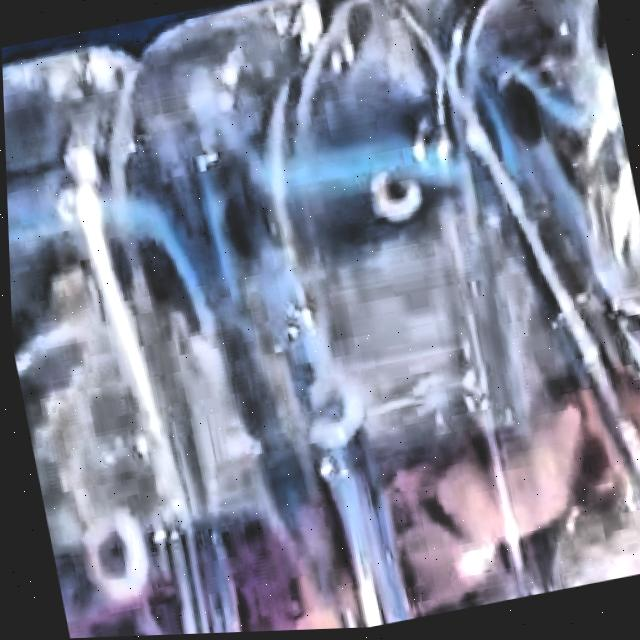plastic: (2, 0, 640, 639)
